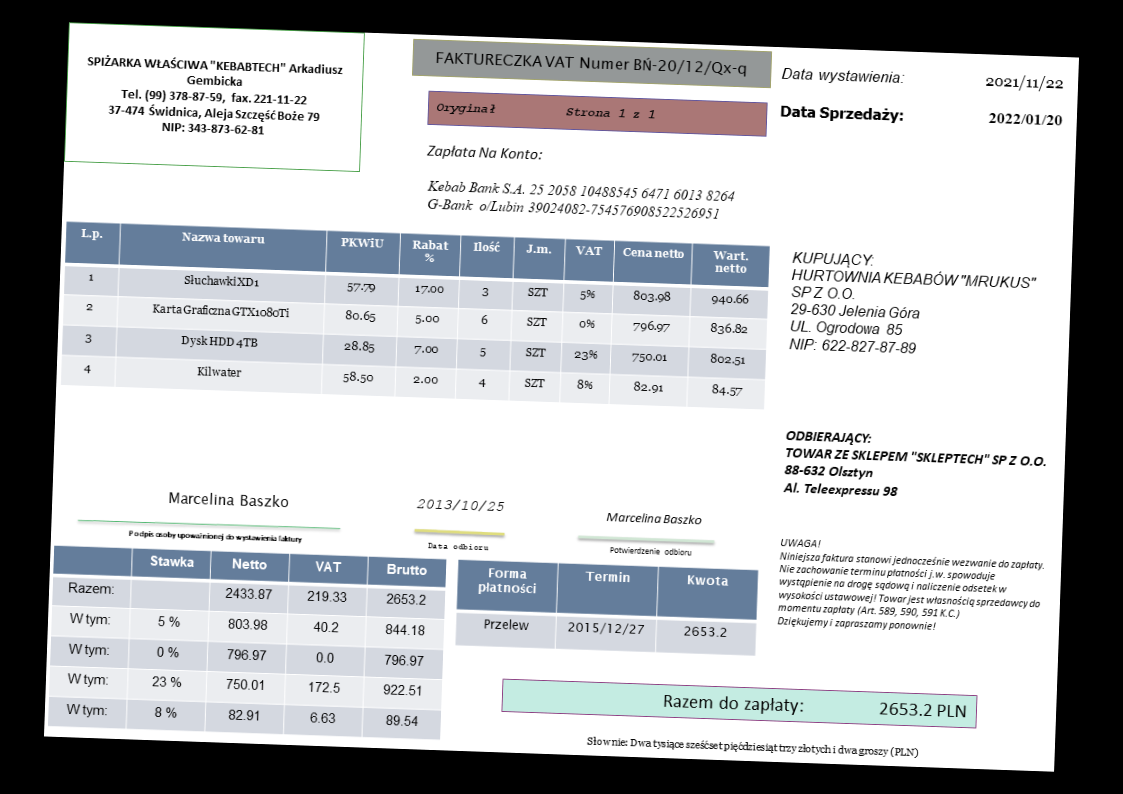Table: (59, 218, 773, 410), (46, 545, 448, 741), (453, 558, 759, 657)
TextBox: (785, 247, 1040, 361), (774, 535, 1046, 638), (81, 50, 344, 141), (780, 425, 1050, 506), (425, 175, 737, 223), (431, 48, 749, 80), (661, 690, 967, 722), (584, 732, 921, 761), (433, 98, 659, 125), (778, 101, 908, 127), (126, 528, 304, 546), (778, 63, 906, 88), (424, 140, 546, 164), (166, 489, 289, 510), (981, 71, 1067, 94), (604, 509, 704, 528), (414, 495, 508, 514), (985, 109, 1066, 129), (608, 544, 694, 558), (426, 538, 490, 553)
